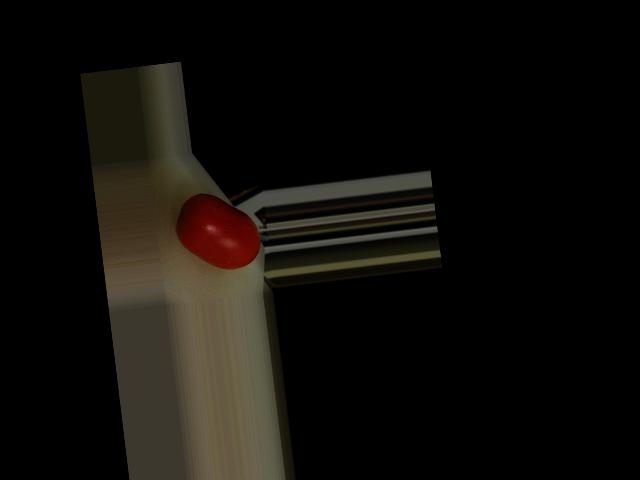tomato: (172, 187, 263, 275)
